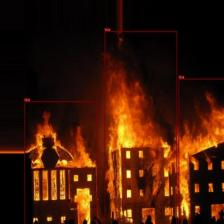fire: (104, 31, 177, 224), (24, 101, 97, 224), (178, 78, 224, 224)
